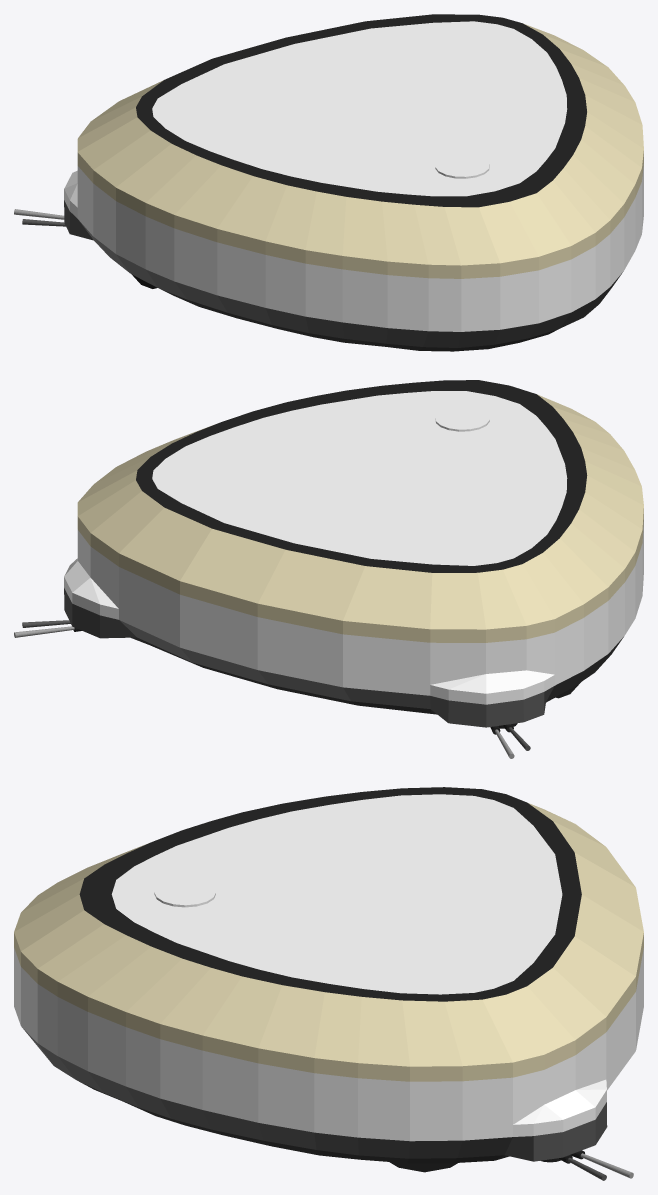
3 views of the same model, one above another, from view 1: azimuth 30°, elevation 25°; view 2: azimuth 150°, elevation 25°; view 3: azimuth 270°, elevation 25° (orthographic). The views are drawn at different scales.
Parts seen in each view (by area): view 1: Body, Metal, Brush_L; view 2: Body, Metal, Brush_R; view 3: Body, Metal, Brush_R.
Part boxes in pixels (bbox=[...]): Body: bbox=[64, 14, 643, 351]; Metal: bbox=[435, 153, 489, 178]; Brush_L: bbox=[14, 209, 65, 226]; Body: bbox=[64, 380, 643, 727]; Metal: bbox=[435, 406, 489, 431]; Brush_R: bbox=[14, 620, 81, 637]; Body: bbox=[14, 787, 643, 1163]; Metal: bbox=[154, 879, 215, 907]; Brush_R: bbox=[540, 1150, 633, 1180].
Bounding box in the file's own units: 0.339 × 0.0928 × 0.3248.
